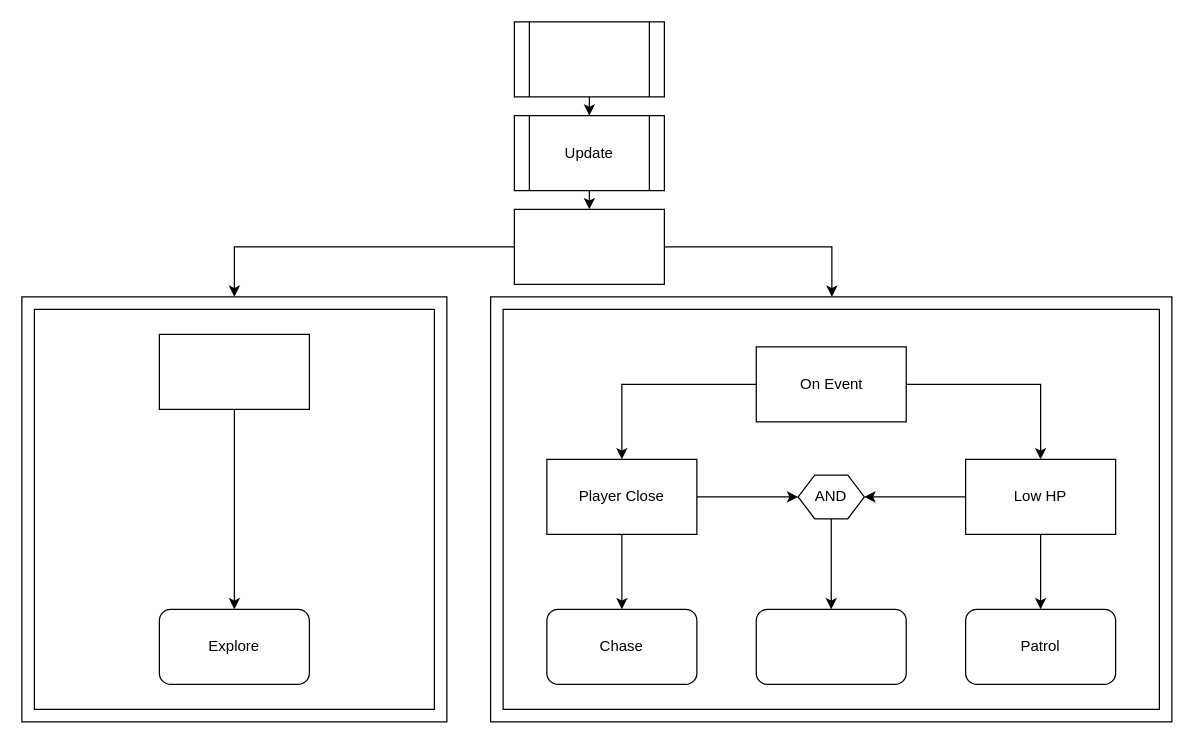
Some shapes in this 1194 by 744 pixel diagram are drawn without their labels. The shapes that lost their labels are listed below. From the top down, each one's centre as x and y in pixels, then its label:
the point at 588,59: Start
the point at 588,246: Check For Event
the point at 233,371: Without Event
the point at 830,646: Flee
